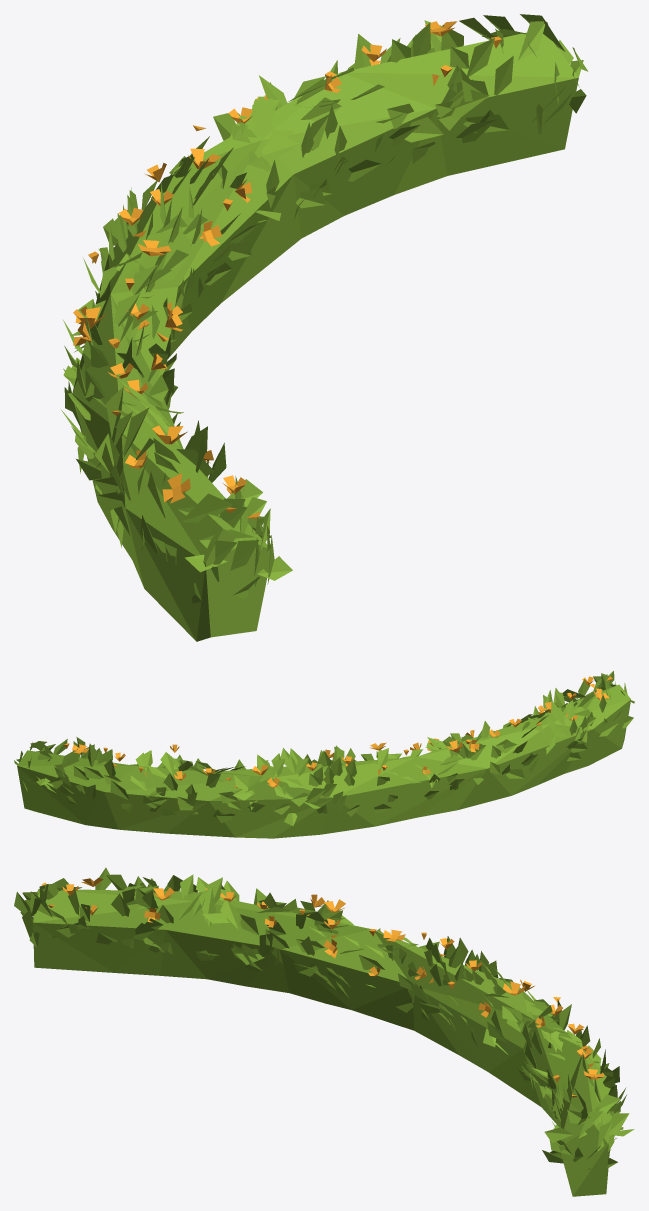
The model's file is SM_Fence_Hedge_City_Short_Flower_Corner_3m.fbx.
3 views of the same model, one above another, from view 1: azimuth 30°, elevation 25°; view 2: azimuth 150°, elevation 25°; view 3: azimuth 270°, elevation 25° (orthographic). The views are drawn at different scales.
Visible parts, largest first — view 1: SM_Fence_Hedge_City_Short_Flower_Corner_3m; view 2: SM_Fence_Hedge_City_Short_Flower_Corner_3m; view 3: SM_Fence_Hedge_City_Short_Flower_Corner_3m.
Part boxes in pixels (left/top/right/bottom): SM_Fence_Hedge_City_Short_Flower_Corner_3m: left=61, top=14, right=588, bottom=641; SM_Fence_Hedge_City_Short_Flower_Corner_3m: left=14, top=671, right=634, bottom=838; SM_Fence_Hedge_City_Short_Flower_Corner_3m: left=14, top=867, right=634, bottom=1196.
Size of the model in its own units: 3.35 by 0.6275 by 3.4.
